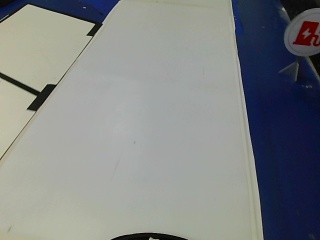battery: (285, 10, 318, 57)
